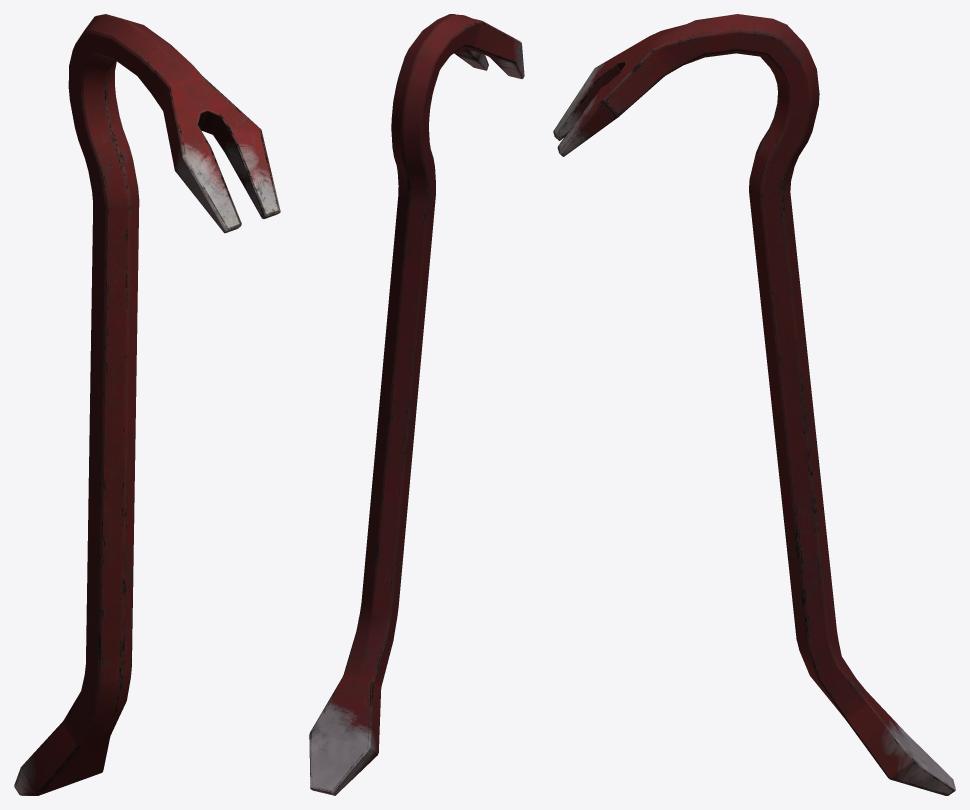
File: weapon_melee_crowbar.glb
3 views of the same model, side by side, from view 1: azimuth 30°, elevation 25°; view 2: azimuth 150°, elevation 25°; view 3: azimuth 270°, elevation 25° (orthographic). The views are drawn at different scales.
Visible parts, largest first — view 1: crowbar_crowbar_0; view 2: crowbar_crowbar_0; view 3: crowbar_crowbar_0.
Part boxes in pixels (box(x1,y1,x2,y2)): crowbar_crowbar_0: box(14, 14, 280, 795); crowbar_crowbar_0: box(309, 14, 524, 795); crowbar_crowbar_0: box(553, 14, 955, 795).
Bounding box in the file's own units: 0.0654 × 0.6262 × 0.2975.
Materials: 1 (1 with a texture image).
